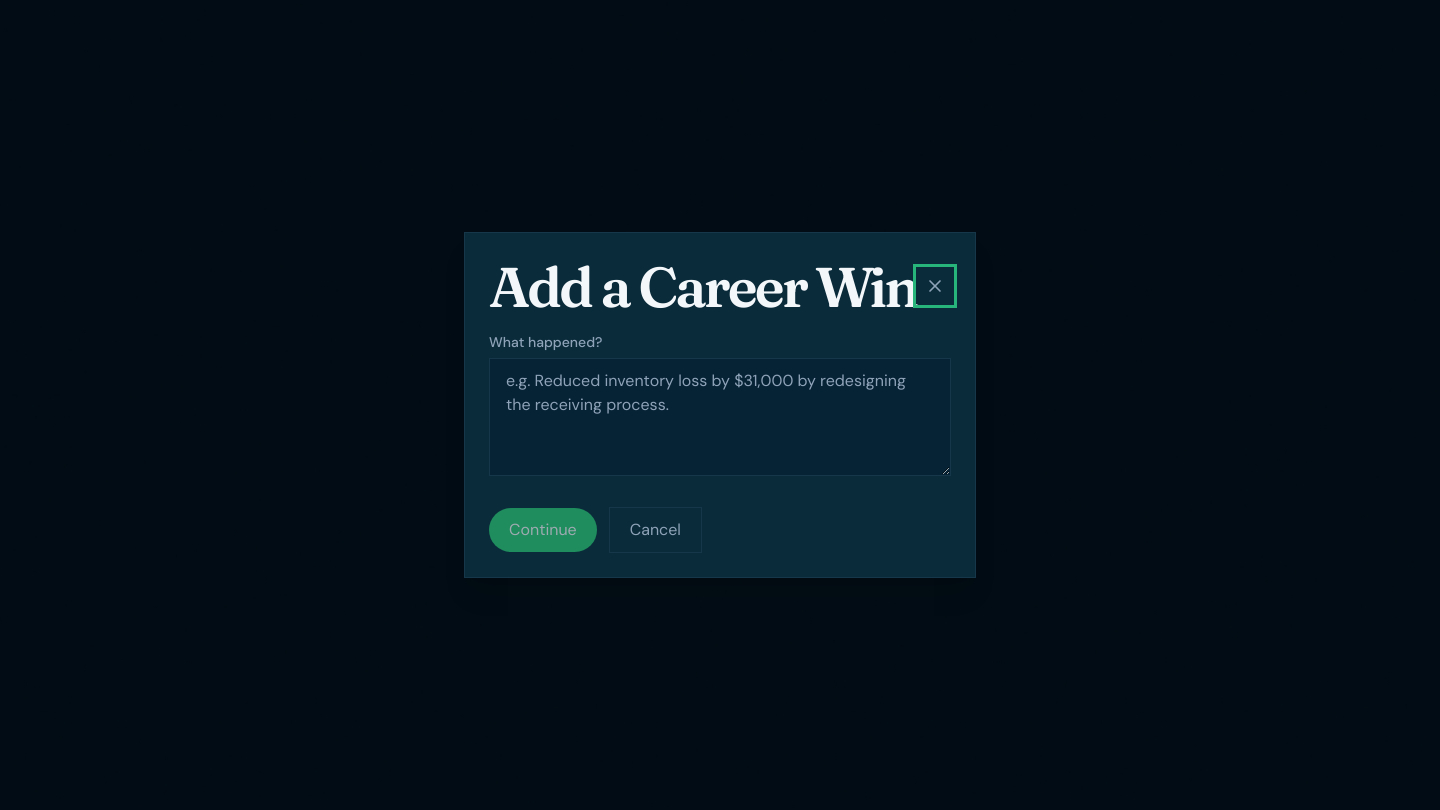
Scenario: AddCareerWinModal › shows an error and does not call onSaved when createCareerWin fails (fix round 1: previously untested branch)
Replace the text in the text box labelled "What happened?" with "Reduced inventory loss by $31,000.". click: (720, 417)
box: [489,358,951,476]
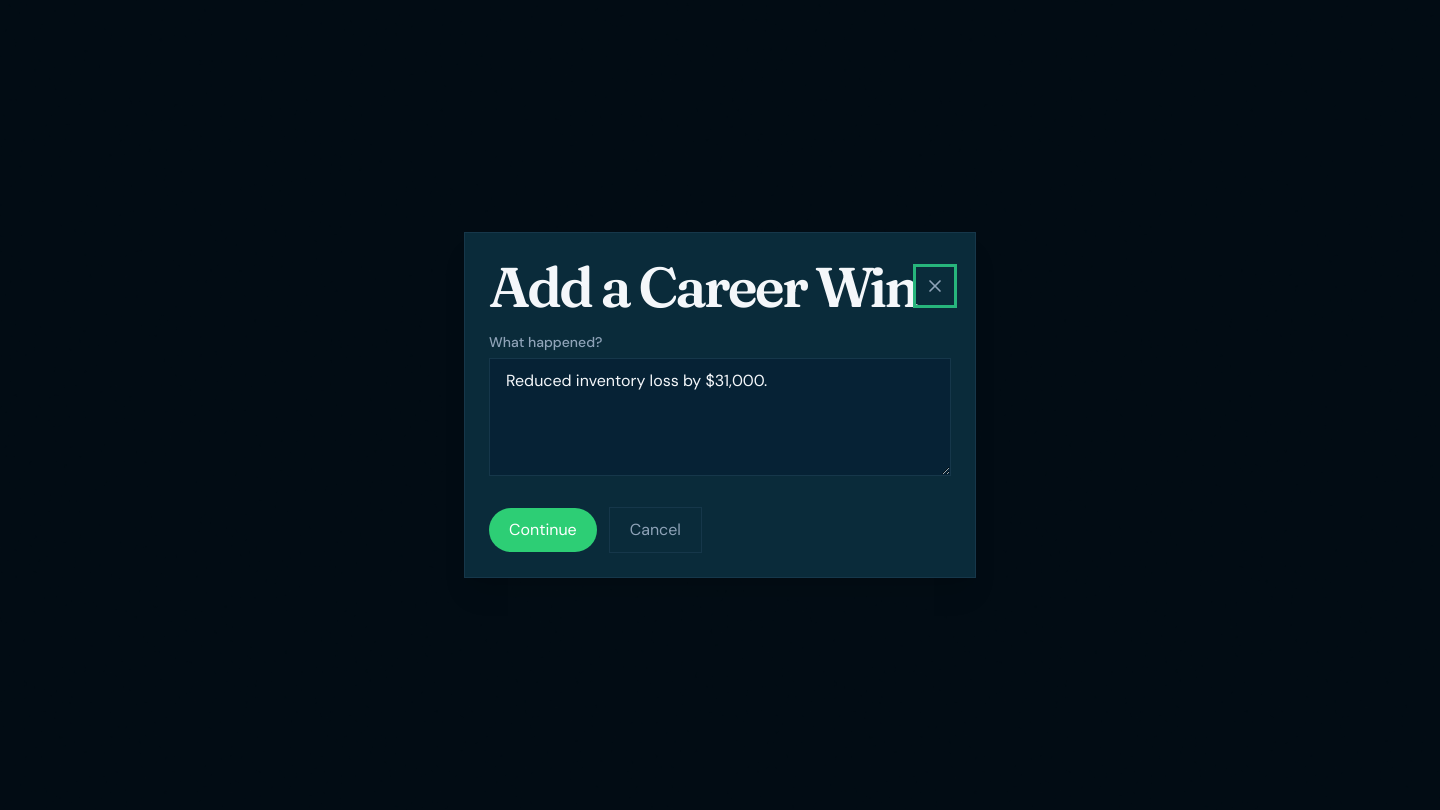
Click the button "Continue". click: (543, 530)
box: [489,508,597,552]
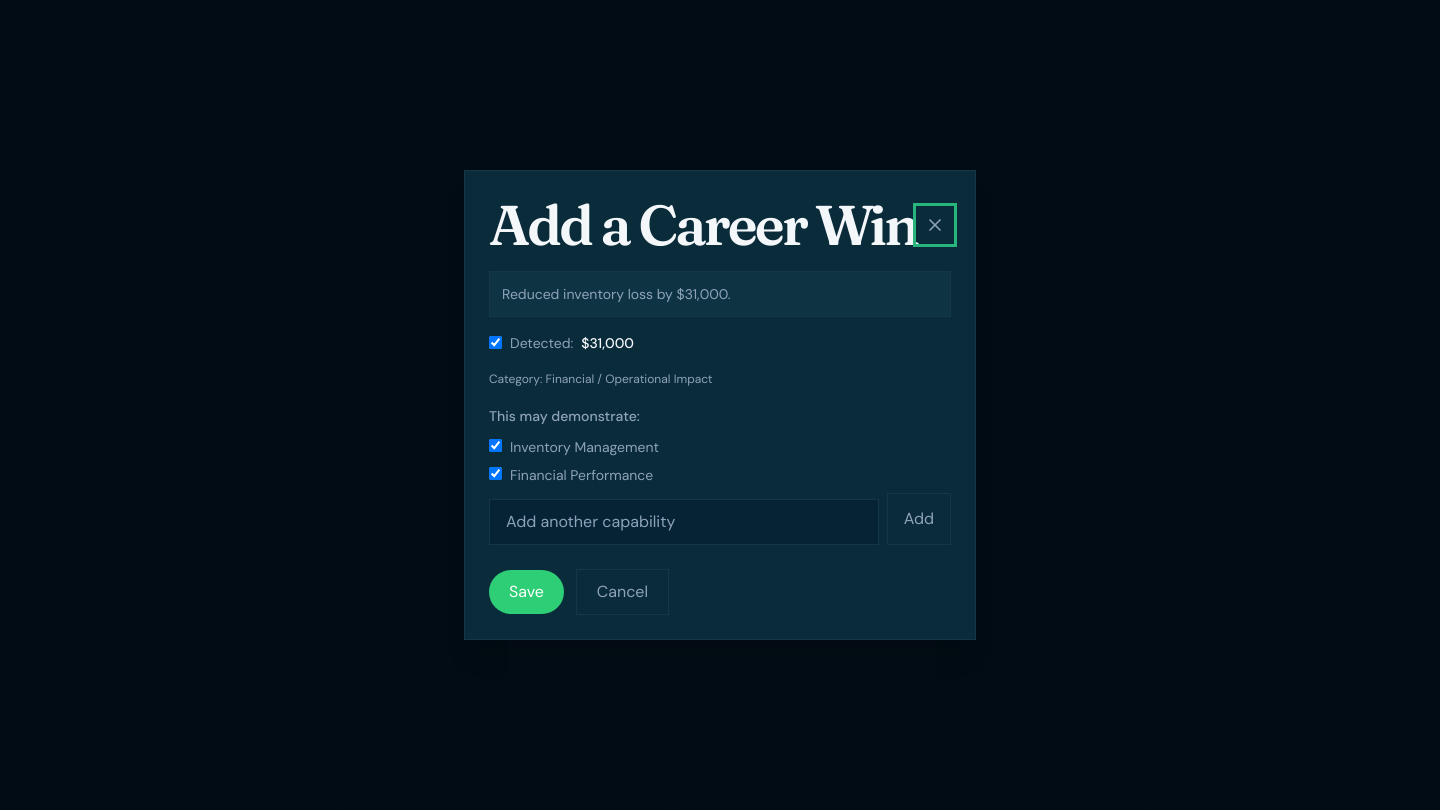
Check: the text "$31,000" is shown, box [581,333,634,353]
Click the button "Save". click: (526, 592)
box: [489,570,564,614]
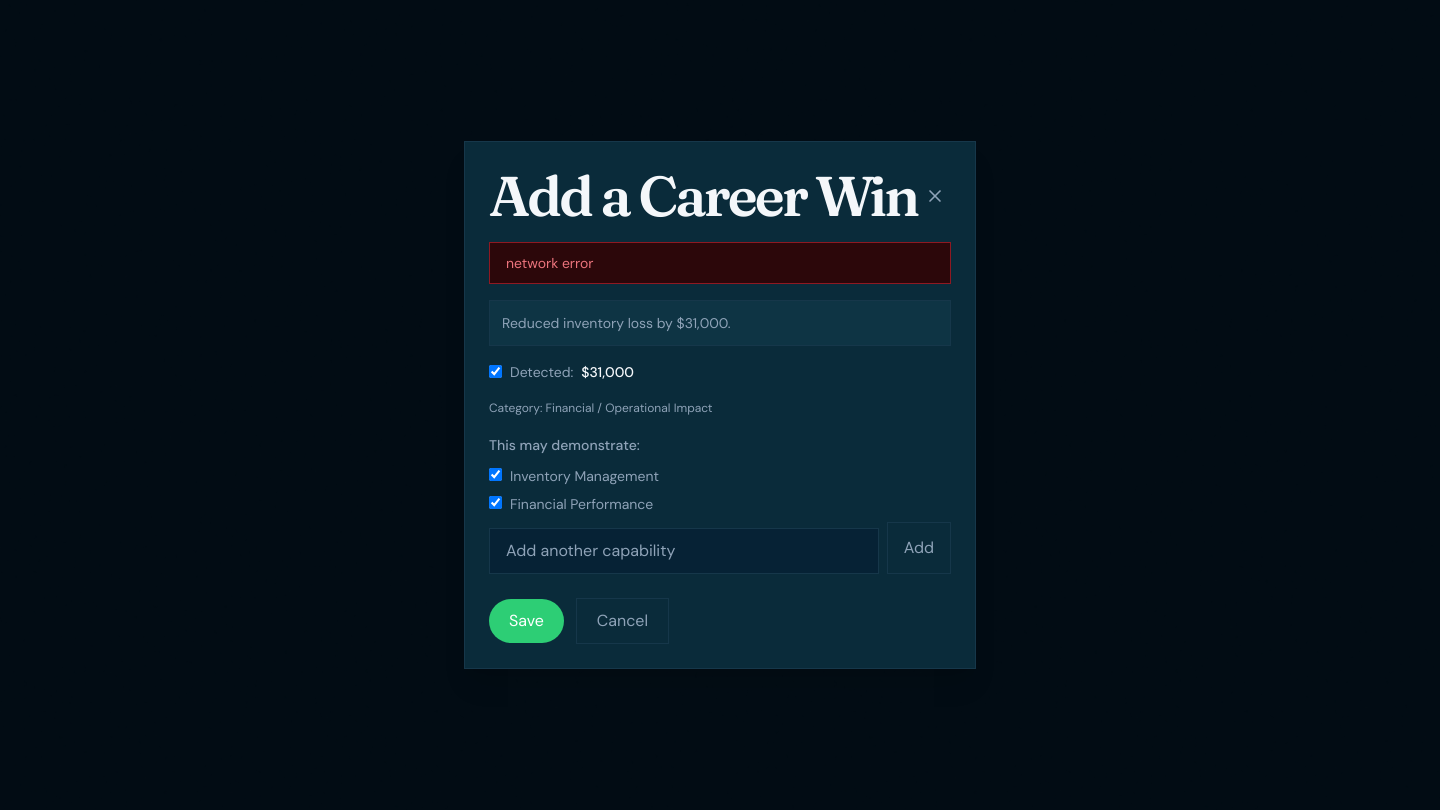
Check: the text "network error" is shown, box [489,242,951,284]
